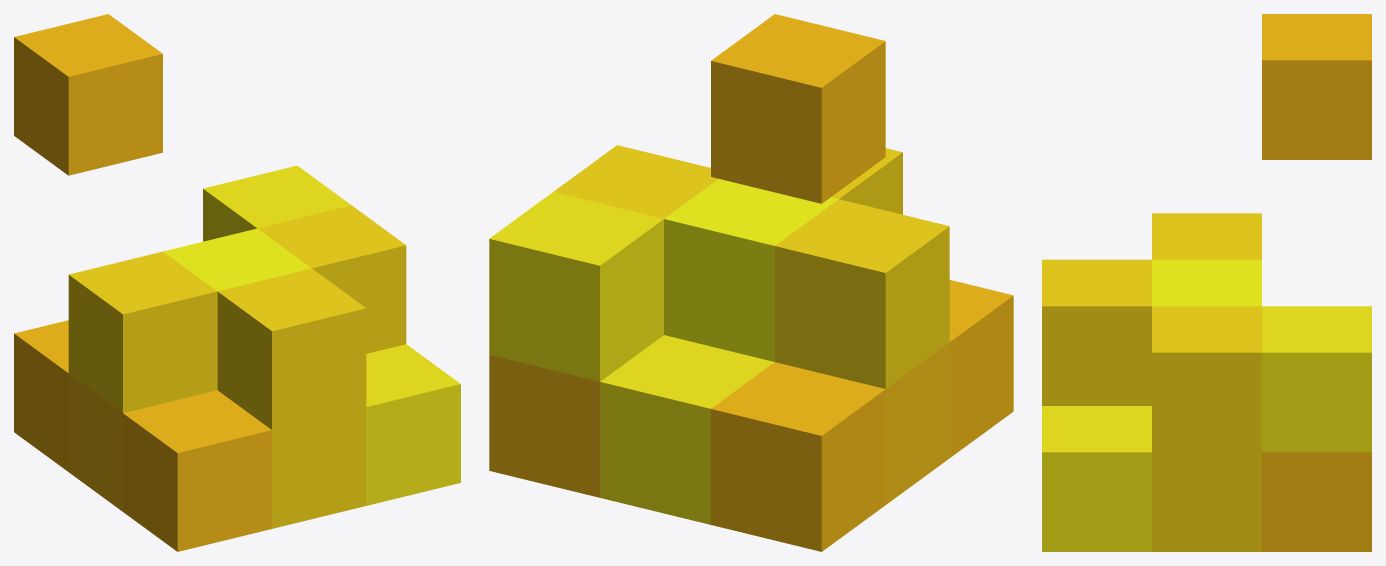
The model's file is wall_torch-11-flames.obj.
The picture shows the model from 3 angles, left to right: view 1: azimuth 30°, elevation 25°; view 2: azimuth 150°, elevation 25°; view 3: azimuth 270°, elevation 25°; orthographic projection. The views are drawn at different scales.
Parts seen in each view (by area): view 1: flames; view 2: flames; view 3: flames.
Boxes of the visible parts, x1,y1,x2,y2 form: flames: (14,14,460,551); flames: (489,14,1013,551); flames: (1042,14,1371,551).
Size of the model in its own units: 0.3 by 0.4 by 0.3.
1 material, 1 textured.
